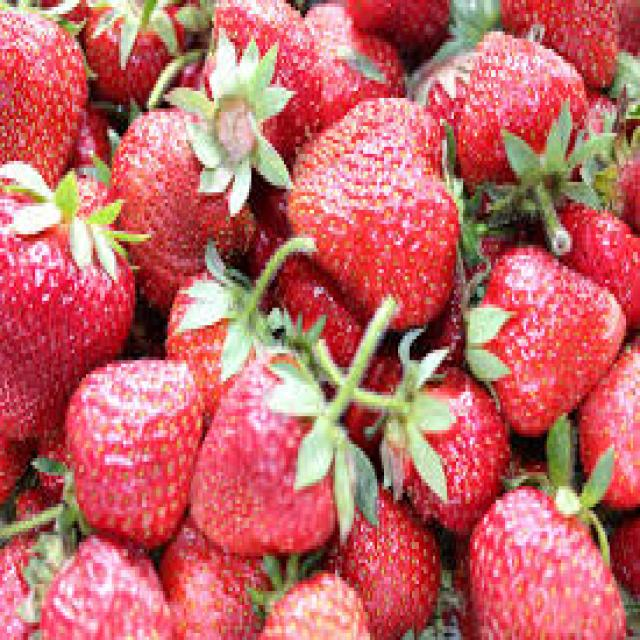Strawberries: (283, 90, 453, 317), (180, 364, 346, 559), (0, 193, 130, 435), (63, 354, 197, 561), (456, 255, 625, 419), (111, 109, 238, 297), (453, 28, 581, 210), (470, 514, 621, 640), (390, 368, 500, 528), (0, 14, 80, 188)
